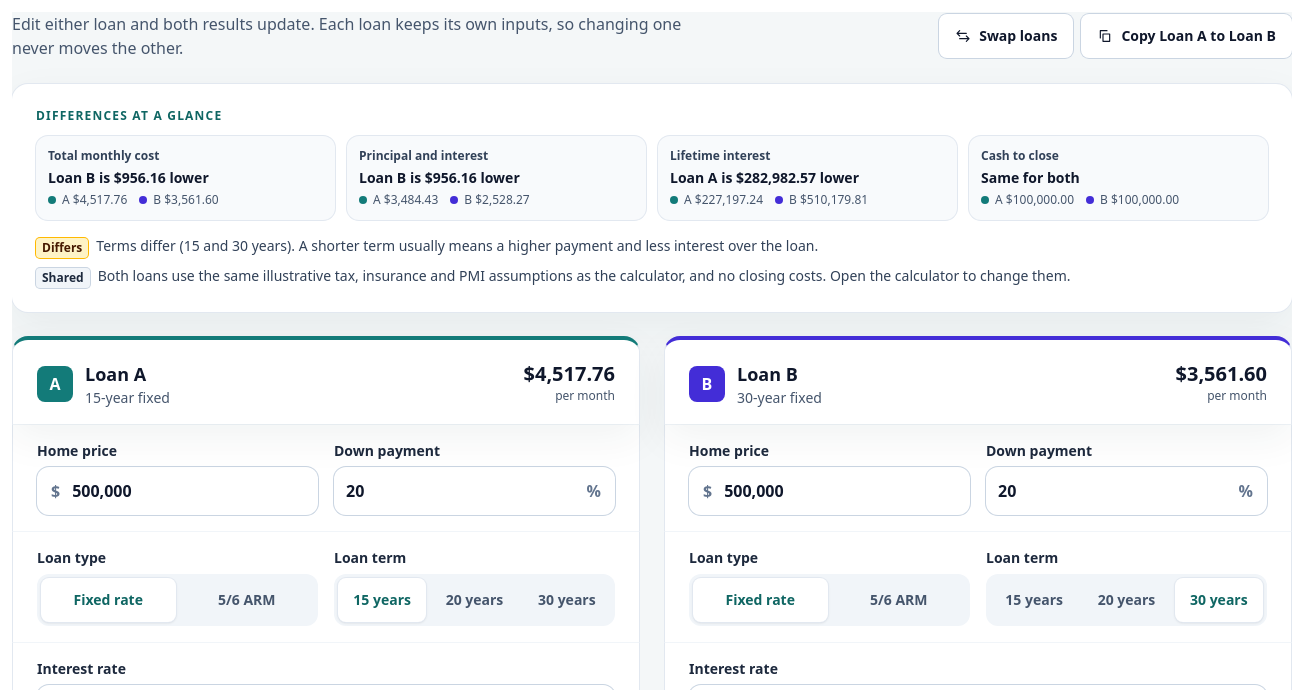
Test: CompareView › keeps each loan independent when one is edited
Replace the text in the field labelled "Home price" below "30-year fixed" with "600,000": point(841, 491) x1=712 y1=471 x2=970 y2=511
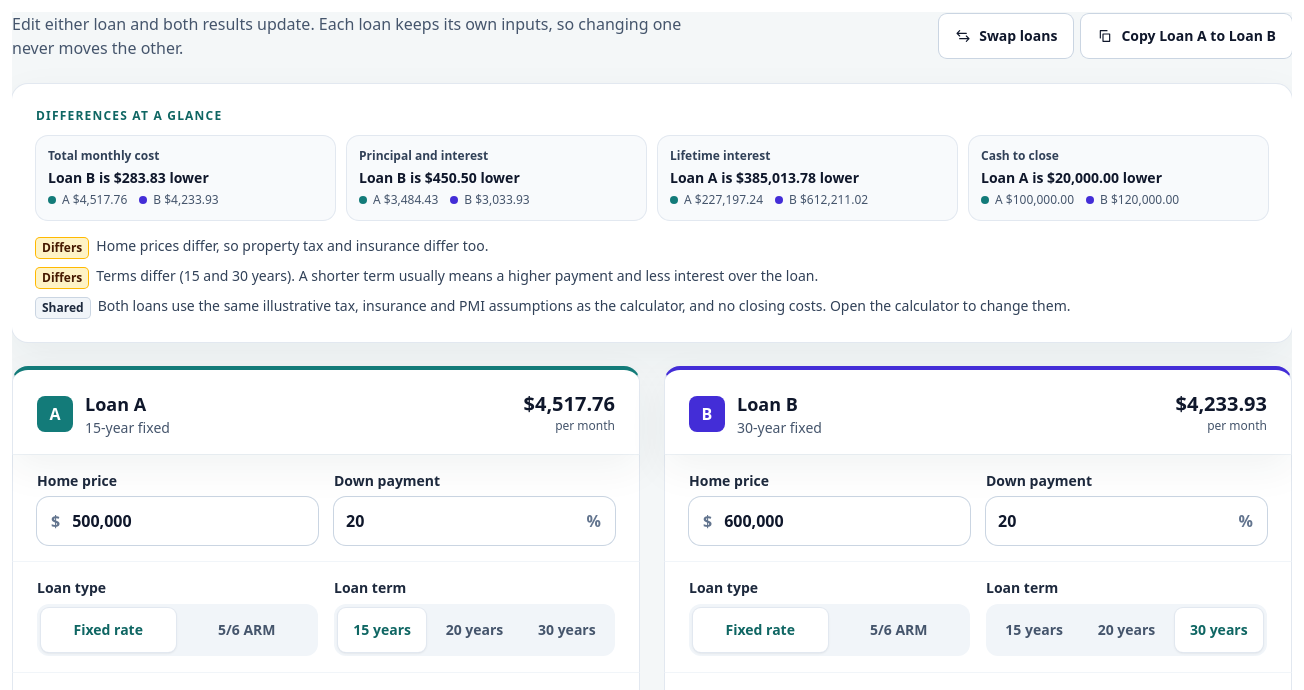
Expected: the field labelled "Home price" below "15-year fixed" holds "500,000", x1=60 y1=501 x2=318 y2=541
Now the text "Home prices differ" is shown, box x1=96 y1=236 x2=488 y2=255
